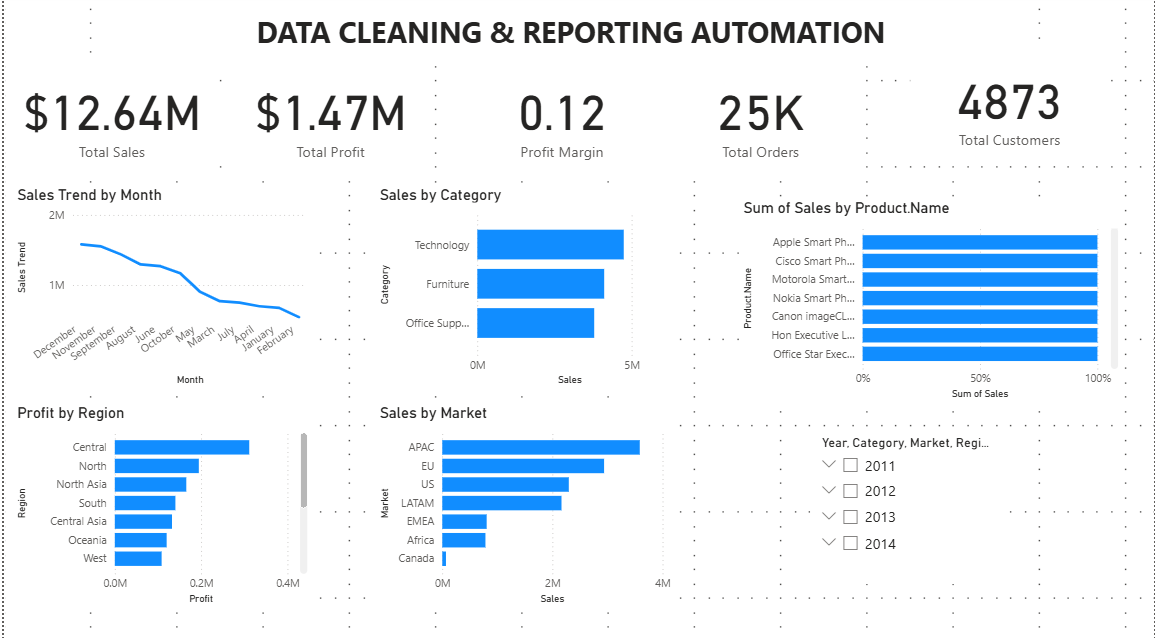

The dashboard page shown, as its layout file describes it:
{"tool":"powerbi","page":{"name":"Page 1","canvas":[1280,720],"ordinal":0},"visuals":[{"type":"card","fields":{"Values":["cleaned_superstore.Total Sales"]},"box":[9.7,75.1,221.2,122.4],"z":0},{"type":"card","fields":{"Values":["cleaned_superstore.Total Profit"]},"box":[253.2,75.1,221.2,122.4],"z":1000},{"type":"card","fields":{"Values":["cleaned_superstore.Total Orders"]},"box":[731.8,75.1,221.2,122.4],"z":2000},{"type":"card","fields":{"Values":["cleaned_superstore.Total Customers"]},"box":[1008.7,62.6,221.2,122.4],"z":3000},{"type":"textbox","box":[186.4,15.3,889,59.8],"z":3001},{"type":"lineChart","fields":{"Category":["cleaned_superstore.Month"],"Y":["Sum(cleaned_superstore.Sales)"]},"box":[9.7,212.9,332.5,228.2],"z":3002},{"type":"clusteredBarChart","fields":{"Category":["cleaned_superstore.Category"],"Y":["Sum(cleaned_superstore.Sales)"]},"box":[413.2,212.9,333.9,228.2],"z":3003},{"type":"barChart","fields":{"Category":["cleaned_superstore.Region"],"Y":["Sum(cleaned_superstore.Profit)"]},"box":[10,456.5,333,228],"z":3004},{"type":"clusteredBarChart","fields":{"Category":["cleaned_superstore.Market"],"Y":["Sum(cleaned_superstore.Sales)"]},"box":[413,457,334,228],"z":3005},{"type":"hundredPercentStackedBarChart","fields":{"Category":["cleaned_superstore.Product.Name"],"Y":["Sum(cleaned_superstore.Sales)"]},"box":[818.1,228.2,427.1,228.2],"z":3006},{"type":"slicer","fields":{"Values":["cleaned_superstore.Order.Date.Variation.Date Hierarchy.Year","cleaned_superstore.Category","cleaned_superstore.Market","cleaned_superstore.Region"]},"box":[897.4,485.6,221.2,171.1],"z":3007},{"type":"card","fields":{"Values":["cleaned_superstore.Profit Margin"]},"box":[495.3,75.1,251.8,122.4],"z":3008}]}

Visuals, with their boxes in screenshot pixels (x1, y1, x2, y2), scaled from the page's 1280x720 canvas onto the 1155x638 screenshot:
card - cleaned_superstore.Total Sales: rect(9, 67, 208, 175)
card - cleaned_superstore.Total Profit: rect(228, 67, 428, 175)
card - cleaned_superstore.Total Orders: rect(660, 67, 860, 175)
card - cleaned_superstore.Total Customers: rect(910, 55, 1110, 164)
textbox: rect(168, 14, 970, 67)
lineChart - cleaned_superstore.Month x Sum(cleaned_superstore.Sales): rect(9, 189, 309, 391)
clusteredBarChart - cleaned_superstore.Category x Sum(cleaned_superstore.Sales): rect(373, 189, 674, 391)
barChart - cleaned_superstore.Region x Sum(cleaned_superstore.Profit): rect(9, 405, 310, 607)
clusteredBarChart - cleaned_superstore.Market x Sum(cleaned_superstore.Sales): rect(373, 405, 674, 607)
hundredPercentStackedBarChart - cleaned_superstore.Product.Name x Sum(cleaned_superstore.Sales): rect(738, 202, 1124, 404)
slicer - cleaned_superstore.Order.Date.Variation.Date Hierarchy.Year x cleaned_superstore.Category: rect(810, 430, 1009, 582)
card - cleaned_superstore.Profit Margin: rect(447, 67, 674, 175)
